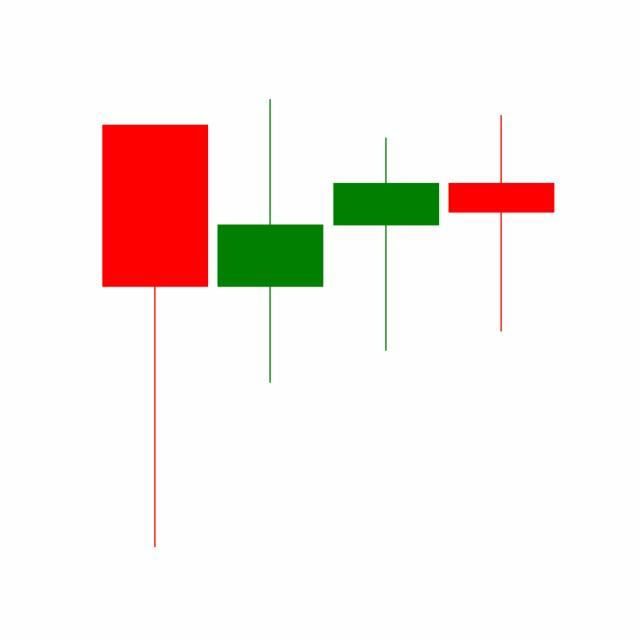Spinning Top: (329, 136, 445, 354)
